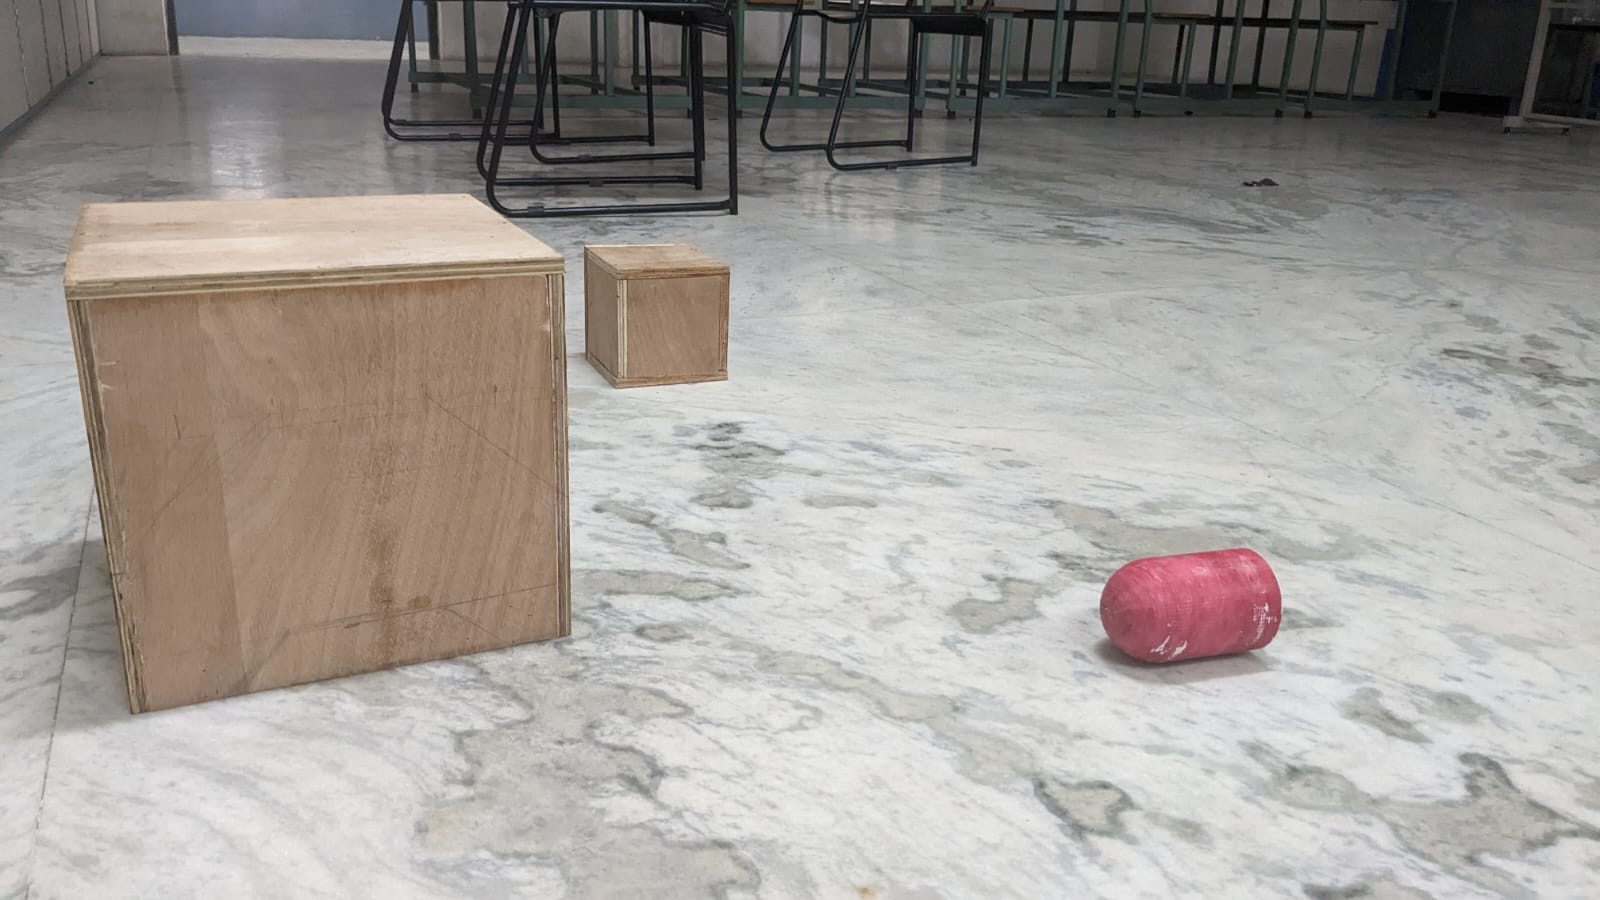150mm obstacle: (584, 238, 747, 396)
300mm obstacle: (52, 188, 579, 691)
testtube: (1097, 543, 1298, 680)
